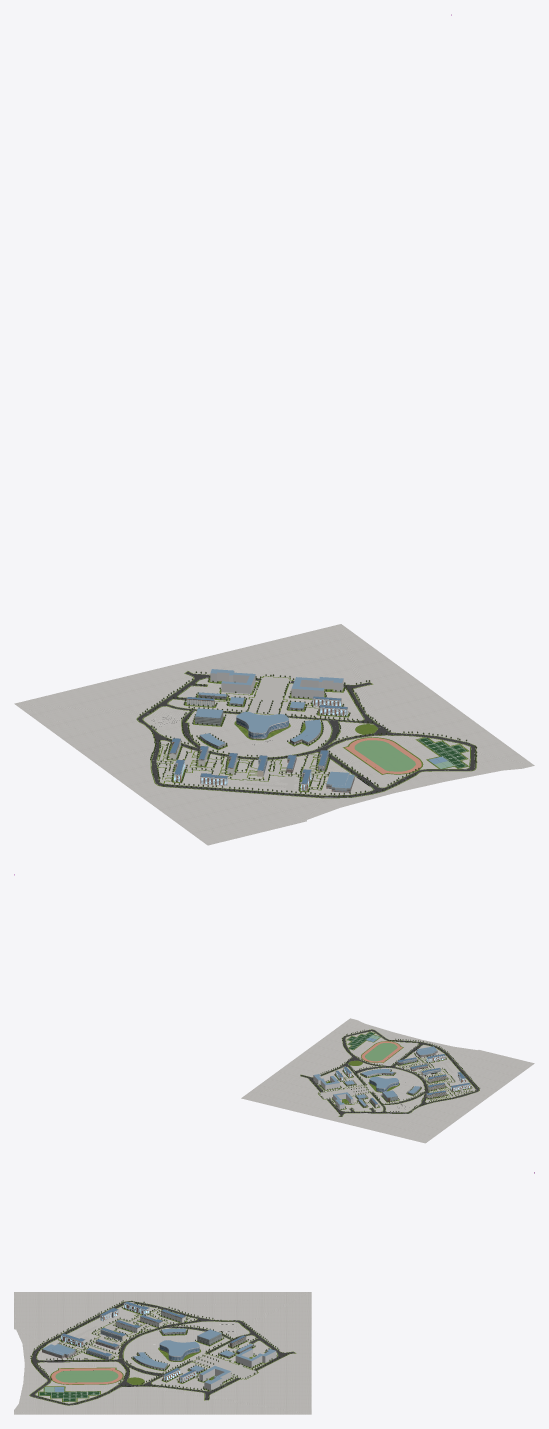
File: hnjcxy_beifeng.glb
3 renders of one model, top to bottom at view 1: azimuth 30°, elevation 25°; view 2: azimuth 150°, elevation 25°; view 3: azimuth 270°, elevation 25°, orthographic. The views are drawn at different scales.
Parts seen in each view (by area): view 1: Ground_Base, Green_Accents, 47, 27, 11; view 2: Ground_Base, Green_Accents, 47, 27; view 3: Ground_Base, Green_Accents, 47, 27, 11, 46, 52, 44, 24, 22, 45, Trees_P5 (+2 smaller).
Boxes of the visible parts, <box> form: Ground_Base: <box>14,624,534,845</box>; Green_Accents: <box>136,671,476,798</box>; 47: <box>151,727,406,797</box>; 27: <box>354,740,415,771</box>; 11: <box>236,711,288,739</box>; Ground_Base: <box>241,1018,534,1143</box>; Green_Accents: <box>300,1029,479,1116</box>; 47: <box>349,1040,479,1098</box>; 27: <box>365,1043,397,1061</box>; Ground_Base: <box>14,1292,311,1414</box>; Green_Accents: <box>29,1301,296,1405</box>; 47: <box>31,1301,168,1387</box>; 27: <box>55,1370,118,1382</box>; 11: <box>159,1340,199,1361</box>; 46: <box>119,1309,246,1358</box>; 52: <box>197,1356,257,1379</box>; 44: <box>206,1325,294,1370</box>; 24: <box>199,1366,231,1382</box>; 22: <box>235,1348,262,1367</box>; 45: <box>133,1361,239,1399</box>; Trees_P5: <box>31,1358,277,1368</box>.
Bounding box in the file's own units: 1391 × 1003 × 1401.
Materials: 122 (100 with a texture image).
